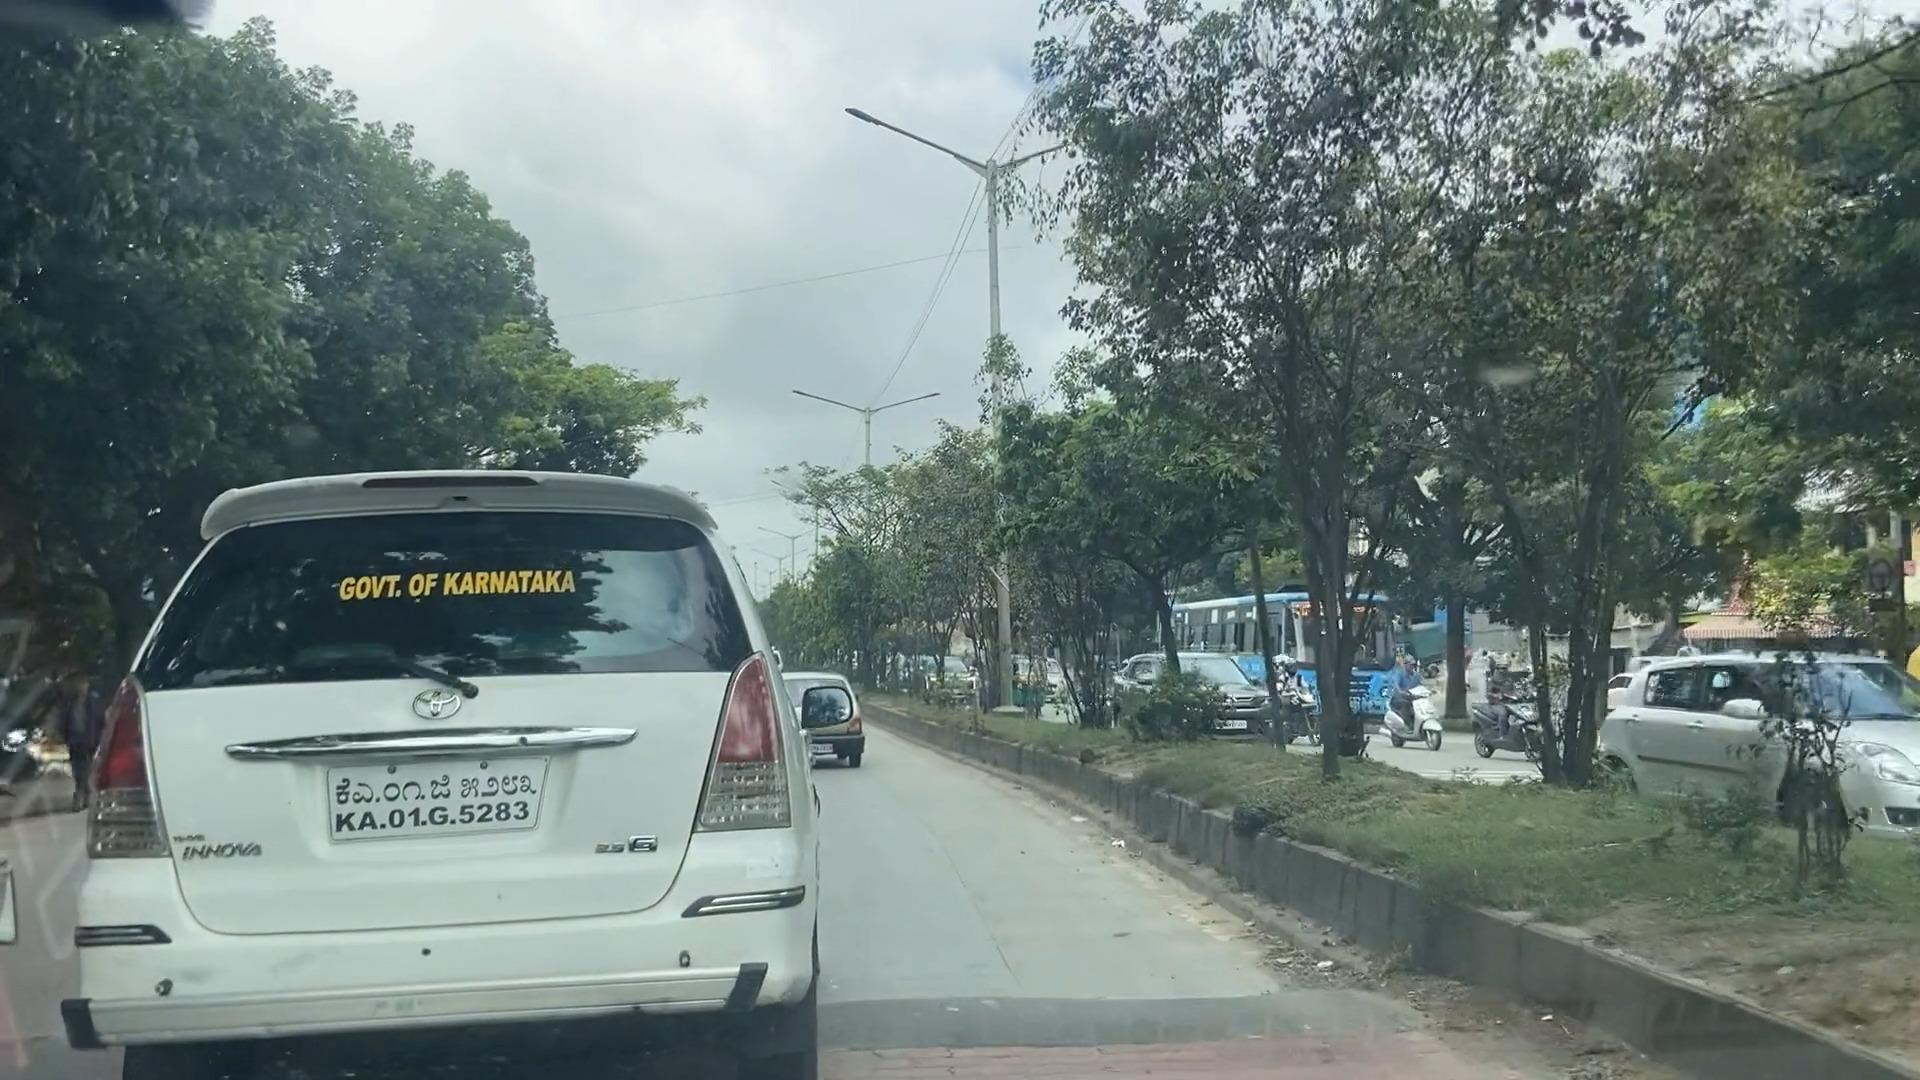HMV: (1133, 580, 1411, 750)
